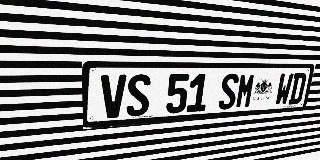1: (186, 74, 209, 112)
5: (166, 74, 189, 114)
D: (288, 73, 307, 105)
M: (235, 73, 256, 109)
S: (126, 74, 151, 117), (218, 73, 240, 110)
V: (101, 74, 126, 119)
W: (274, 73, 294, 106)
